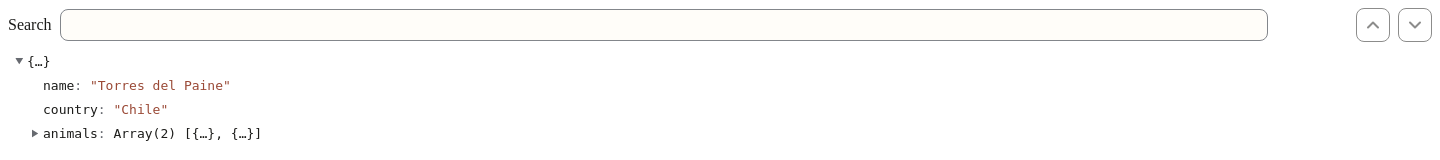
it: ObjectInspector › search › says when nothing matches and marks the buttons unavailable
Later steps or results of the test are not shown.
Type "zebra" into the search field at (664, 25), box [60, 9, 1268, 41]
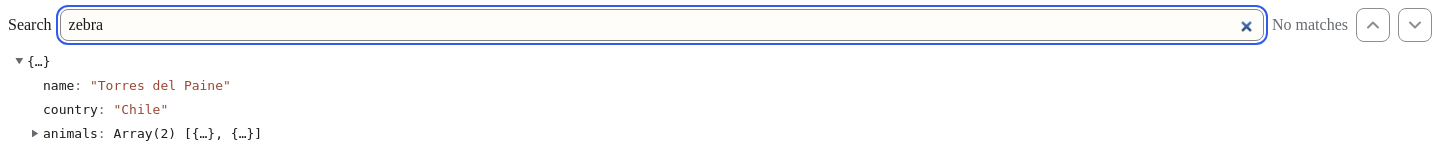
Check: the text "No matches" is shown, box [1272, 16, 1348, 34]
